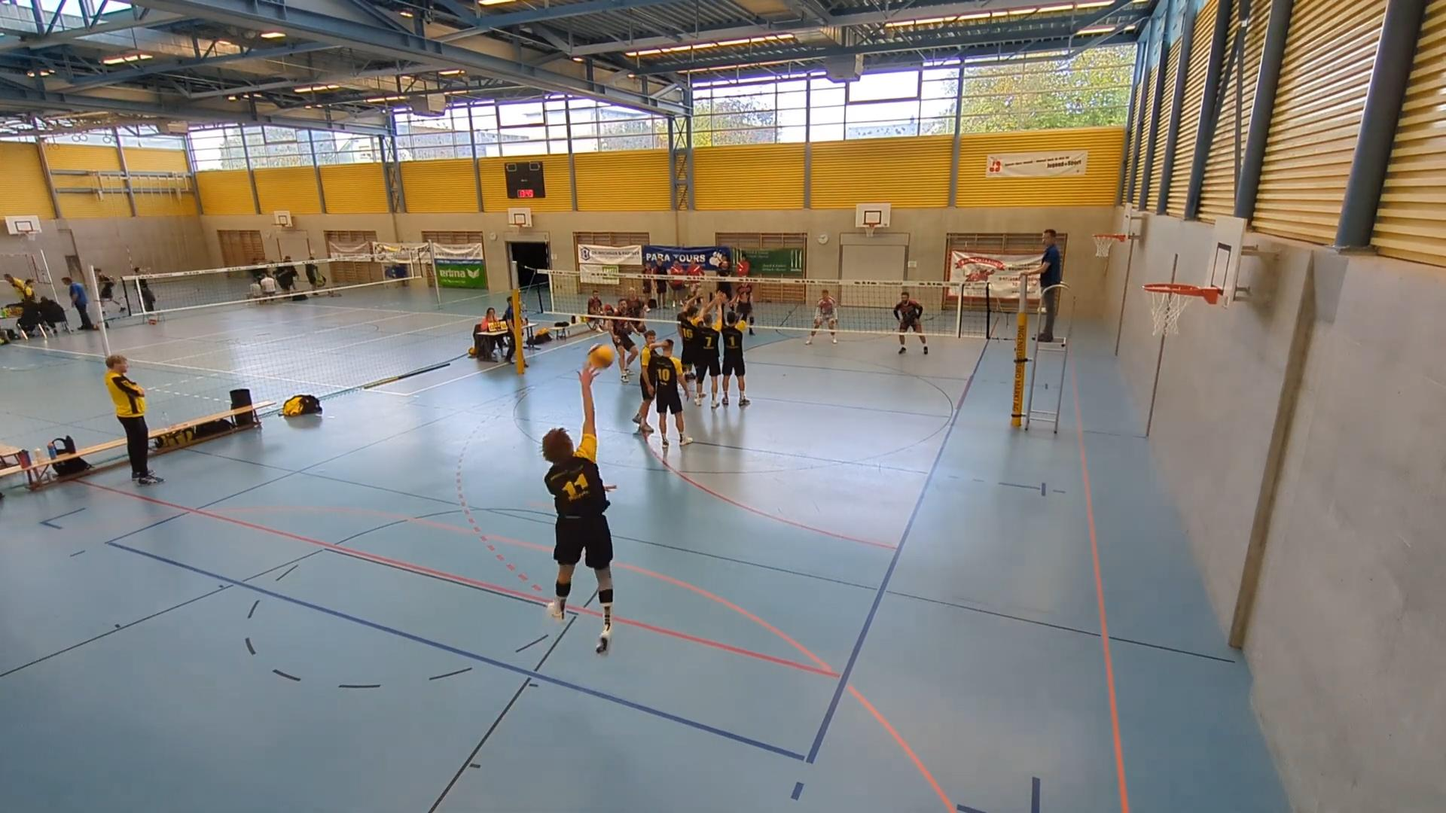battuta: (534, 339, 616, 656)
